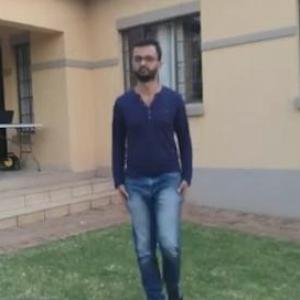follow: (108, 29, 193, 284)
